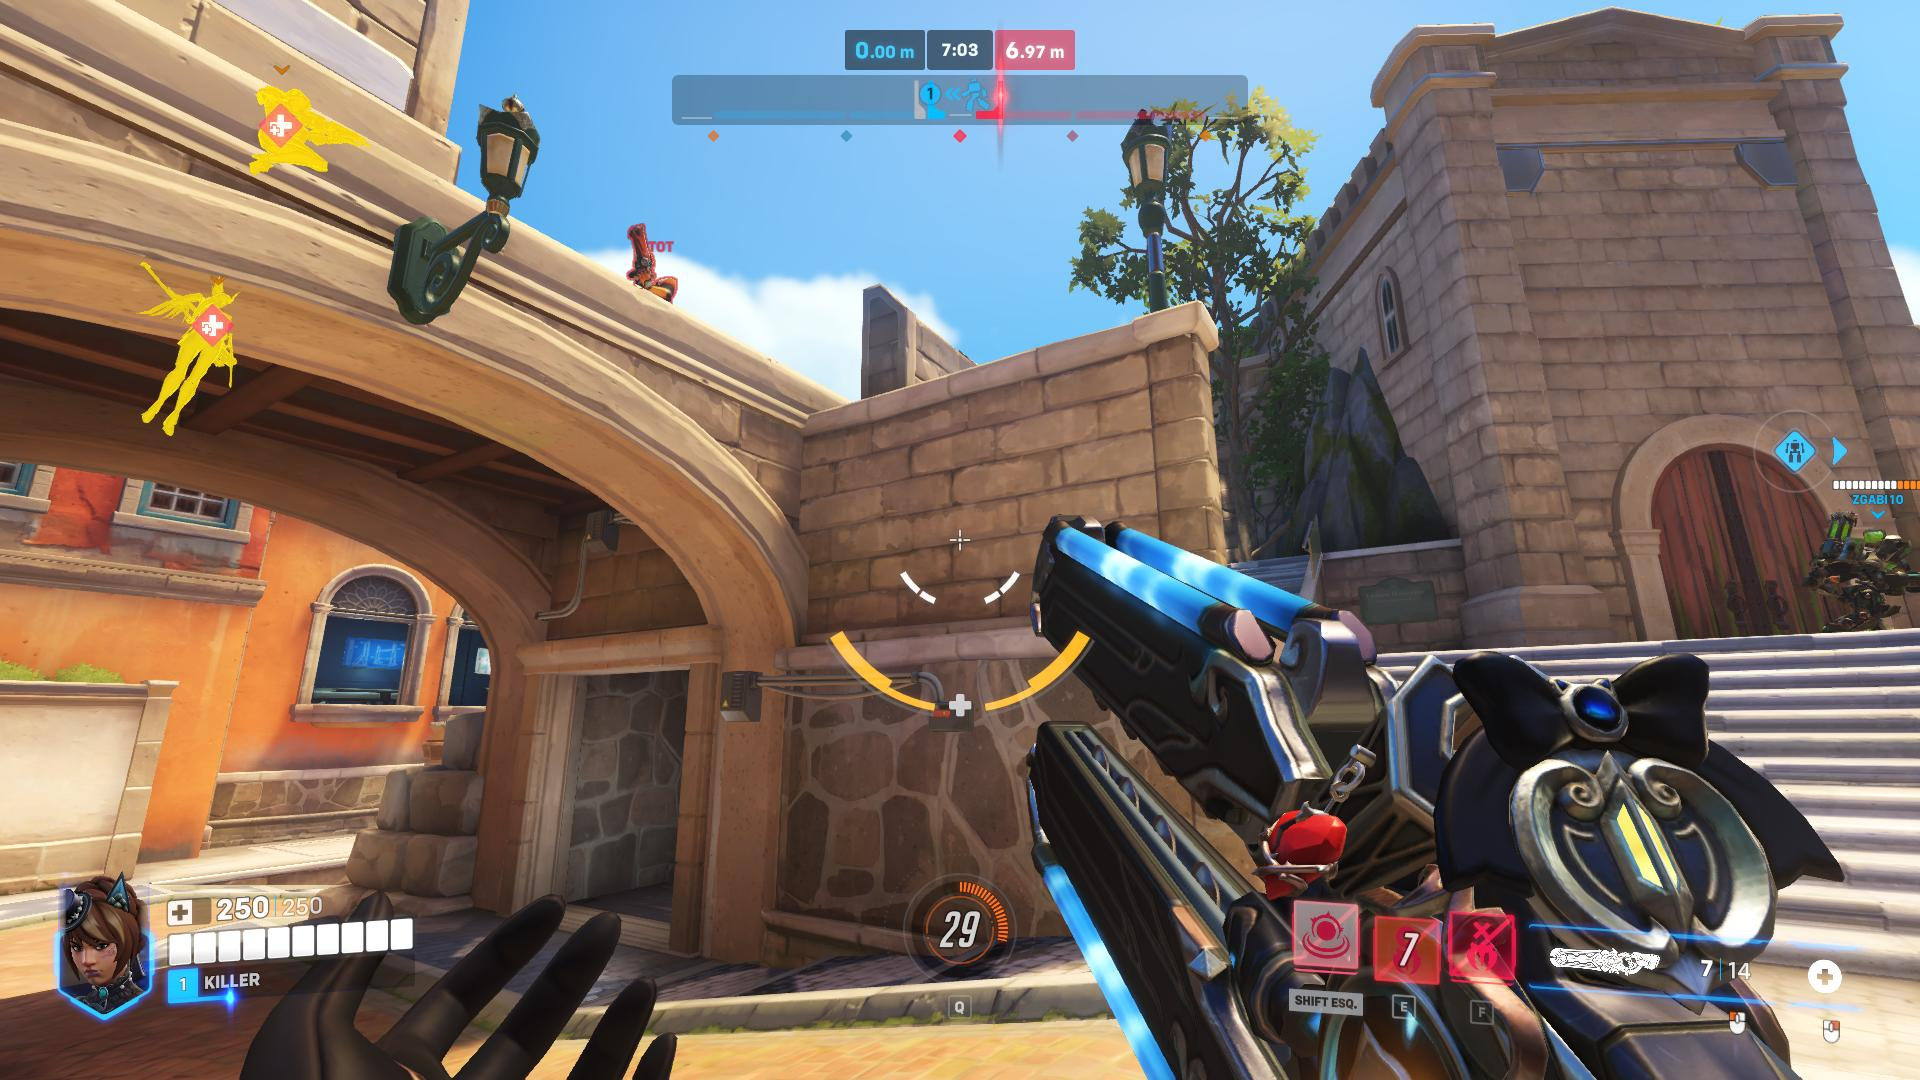enemy: (626, 223, 682, 309)
